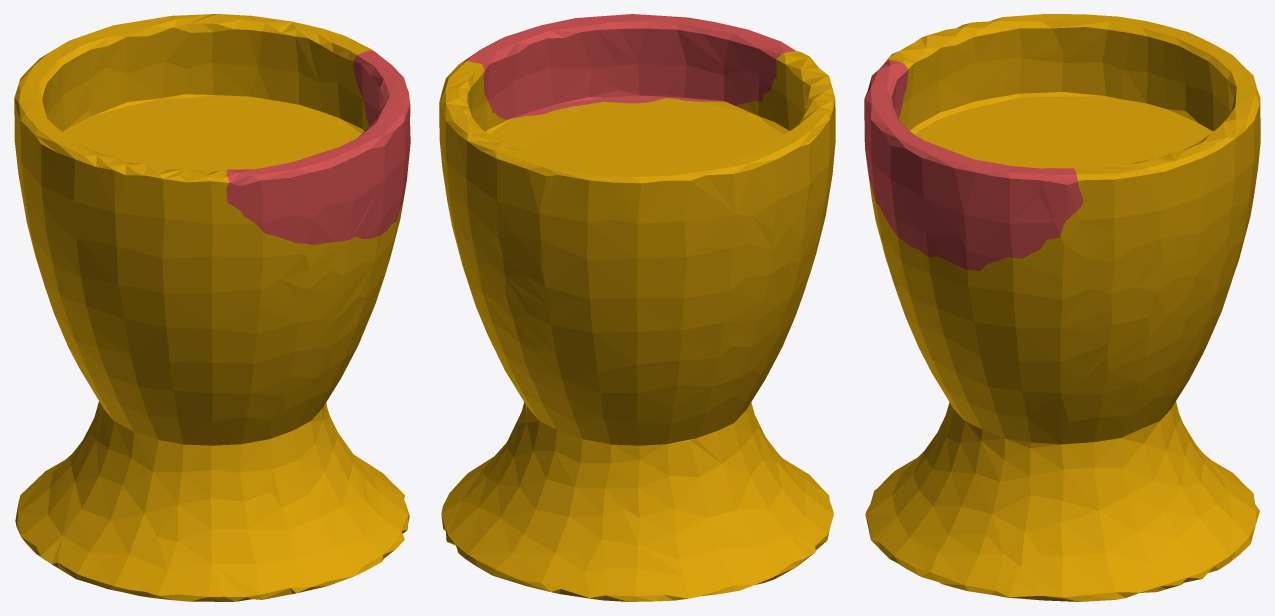
File: fractured_45_2pcs.glb
3 renders of one model, left to right at view 1: azimuth 30°, elevation 25°; view 2: azimuth 150°, elevation 25°; view 3: azimuth 270°, elevation 25°, orthographic.
Parts seen in each view (by area): view 1: piece_0.obj, piece_1.obj; view 2: piece_0.obj, piece_1.obj; view 3: piece_0.obj, piece_1.obj.
Part boxes in pixels (x1,y1,x2,y2): piece_0.obj: (14, 14, 409, 601); piece_1.obj: (226, 50, 410, 244); piece_0.obj: (439, 50, 835, 601); piece_1.obj: (462, 14, 795, 119); piece_0.obj: (865, 14, 1260, 601); piece_1.obj: (864, 60, 1083, 270).
Size of the model in its own units: 0.8413 by 0.9997 by 0.8403.
